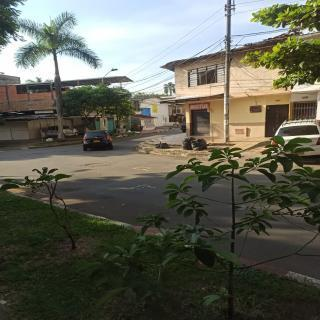Garbage: (191, 138, 209, 150), (181, 137, 195, 150), (159, 142, 169, 149), (155, 142, 162, 148)
